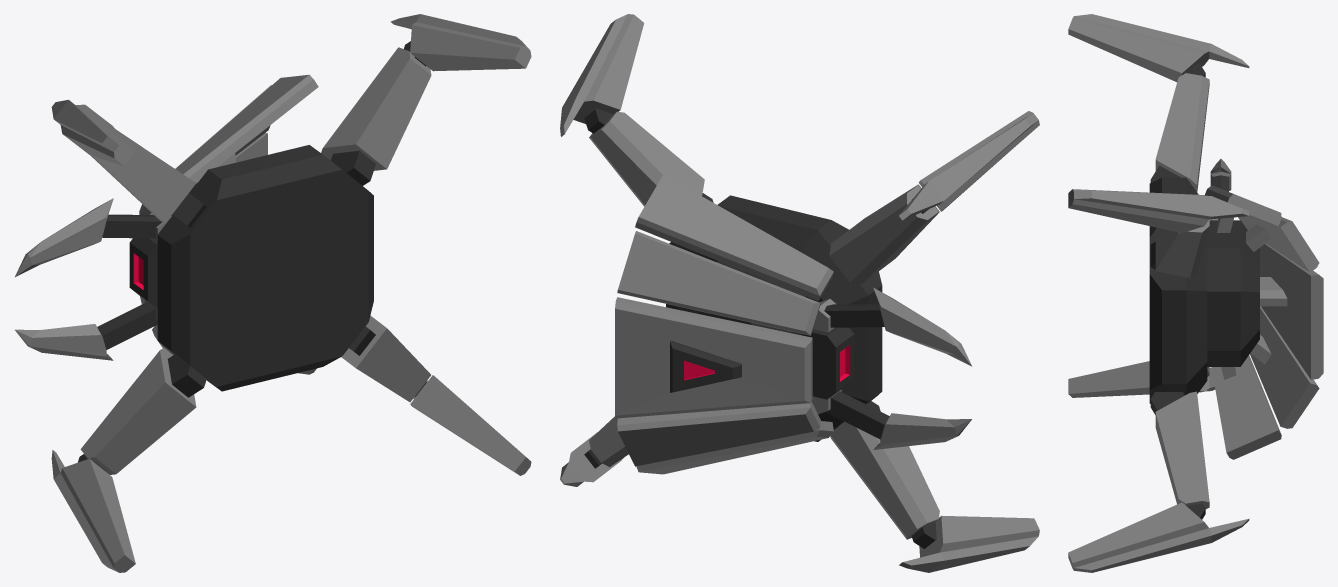
Rendered from BotTest 1.fbx.
3 renders of one model, left to right at view 1: azimuth 30°, elevation 25°; view 2: azimuth 150°, elevation 25°; view 3: azimuth 270°, elevation 25°, orthographic. The views are drawn at different scales.
Parts seen in each view (by area): view 1: SpiderBotBase, TopRightLeg, BottomLeftLeg, Head, BottomLeftFoot, TopRightFoot, BottomRightFoot, RightJaw, LeftJaw, TopLeftLeg, BottomRightLeg, TopLeftFoot (+4 smaller); view 2: Head, SpiderBotBase, TopRightLeg, TopRightFoot, BottomLeftLeg, TopLeftLeg, BottomLeftFoot, TopLeftFoot, RightJaw, LeftJaw, Face, BottomRightFoot (+1 smaller); view 3: Head, SpiderBotBase, BottomRightFoot, TopLeftFoot, BottomLeftFoot, BottomRightLeg, TopLeftLeg, TopRightFoot, BottomLeftLeg, LeftJaw, BottomRightPawRotator.
Boxes of the visible parts, x1,y1,x2,y2 form: SpiderBotBase: (157,145,373,391); TopRightLeg: (80,348,196,474); BottomLeftLeg: (321,47,431,170); Head: (139,74,318,374); BottomLeftFoot: (390,14,531,71); TopRightFoot: (51,450,135,572); BottomRightFoot: (410,375,531,475); RightJaw: (15,302,157,360); LeftJaw: (15,198,161,276); TopLeftLeg: (90,129,196,223); BottomRightLeg: (341,315,430,402); TopLeftFoot: (51,99,135,166); Head: (615,174,833,474); SpiderBotBase: (666,195,882,441); TopRightLeg: (830,421,939,539); TopRightFoot: (899,515,1039,572); BottomLeftLeg: (589,111,704,206); TopLeftLeg: (829,184,939,283); BottomLeftFoot: (560,14,644,136); TopLeftFoot: (899,111,1039,220); RightJaw: (826,391,971,449); LeftJaw: (824,287,971,366); Face: (801,327,854,399); BottomRightFoot: (560,432,623,486); Head: (1205,185,1323,459); SpiderBotBase: (1149,177,1207,403); BottomRightFoot: (1068,502,1249,572); TopLeftFoot: (1068,14,1249,82); BottomLeftFoot: (1068,189,1249,232); BottomRightLeg: (1155,391,1209,508); TopLeftLeg: (1155,73,1209,191); TopRightFoot: (1068,361,1215,397); BottomLeftLeg: (1155,219,1209,277); LeftJaw: (1210,159,1231,191); BottomRightPawRotator: (1150,392,1184,414).
Size of the model in its own units: 2.64 by 2.5 by 1.52.
